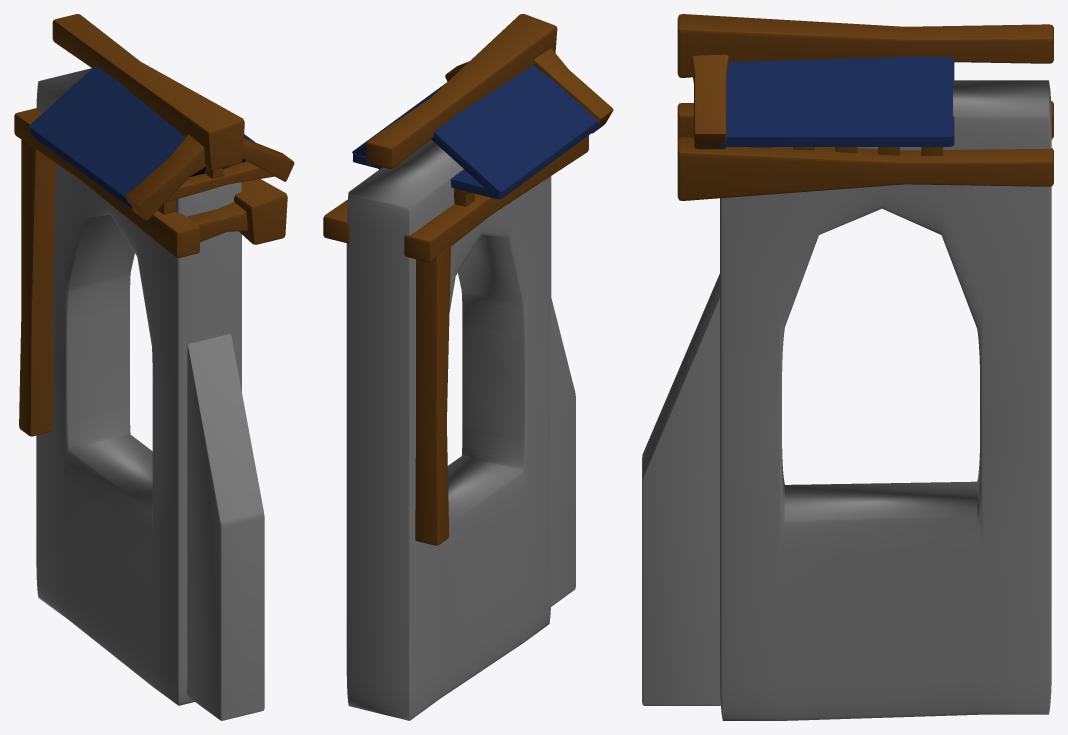
Rendered from Arch.fbx.
3 renders of one model, left to right at view 1: azimuth 30°, elevation 25°; view 2: azimuth 150°, elevation 25°; view 3: azimuth 270°, elevation 25°, orthographic. The views are drawn at different scales.
Parts seen in each view (by area): view 1: Box036; view 2: Box036; view 3: Box036.
Part boxes in pixels (x1,y1,x2,y2): Box036: [14, 14, 294, 720]; Box036: [323, 14, 613, 720]; Box036: [642, 14, 1053, 720].
Bounding box in the file's own units: 300 × 1076 × 587.
